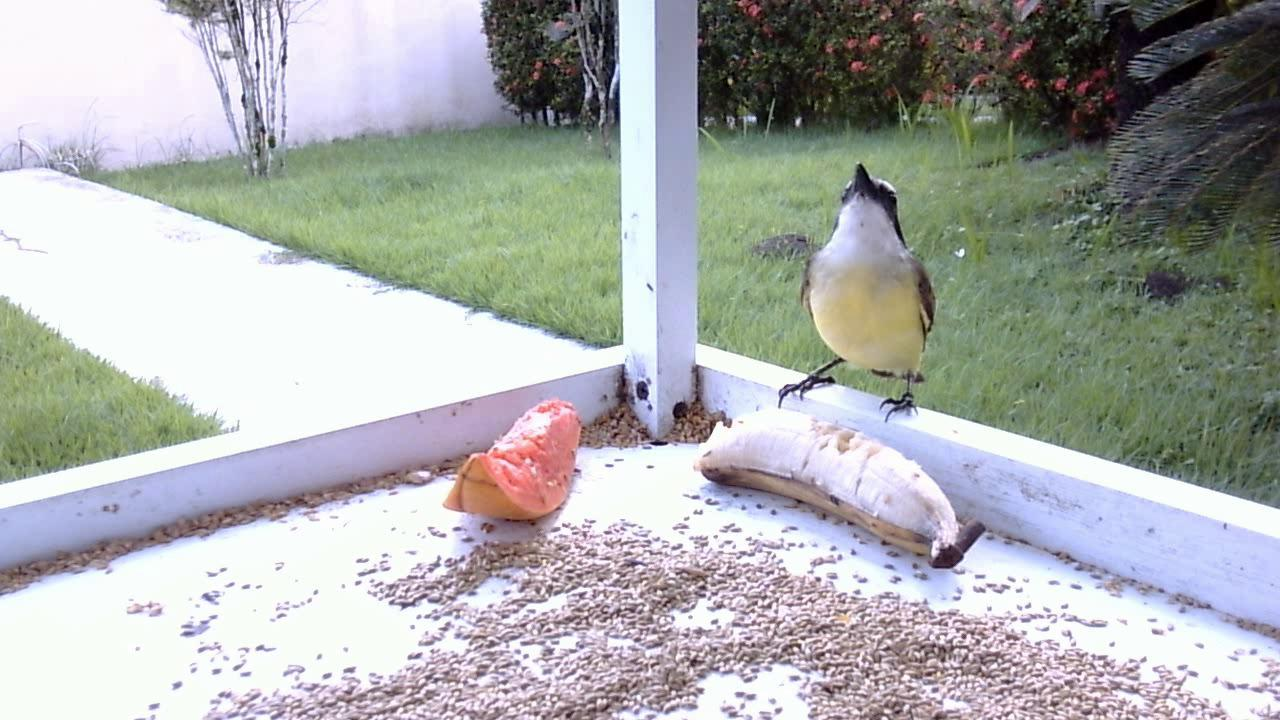bem_te_vi: (765, 164, 940, 431)
